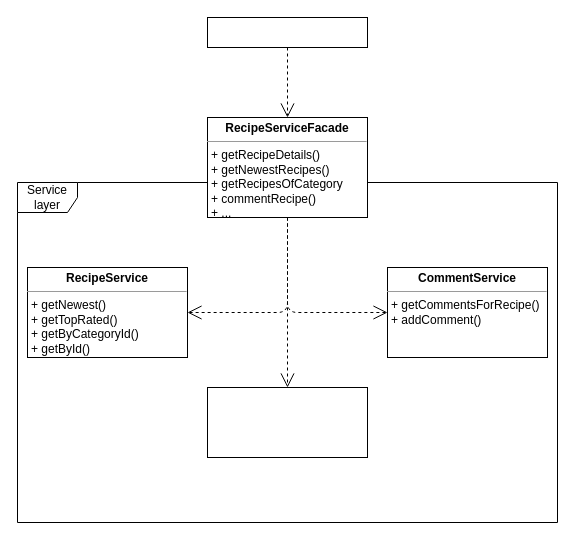
This 575x540 diagram has some shape labels left out. Each missing label, with the centre of its shape:
RecipeCategoryService + getCategories(): the point at 287,422
RecipeController: the point at 287,32
